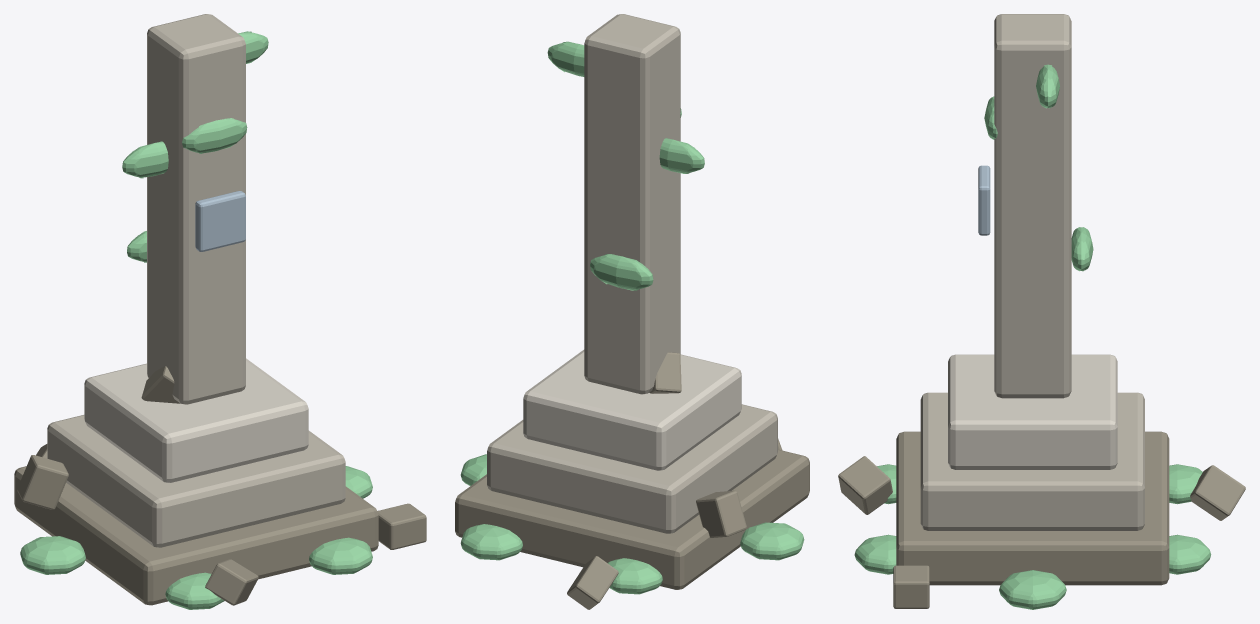
Rendered from chartmaker_stone.glb.
3 views of the same model, side by side, from view 1: azimuth 30°, elevation 25°; view 2: azimuth 150°, elevation 25°; view 3: azimuth 270°, elevation 25° (orthographic). The views are drawn at different scales.
Visible parts, largest first — view 1: Stone, Plinth2, Plinth3, Plinth1, Rune, Tuft3, Rock4, Rock0, Tuft5, Rock1, Moss3, Tuft4 (+4 smaller); view 2: Stone, Plinth2, Plinth1, Plinth3, Tuft3, Rock4, Tuft1, Moss2, Rock2, Tuft2, Moss0, Moss1 (+2 smaller); view 3: Stone, Plinth1, Plinth2, Plinth3, Tuft0, Rock1, Rock2, Rock0, Tuft1, Tuft5, Tuft2, Rune (+2 smaller).
Part boxes in pixels (left/top/right/bottom): Stone: left=147, top=14, right=245, bottom=404; Plinth2: left=47, top=415, right=345, bottom=547; Plinth3: left=84, top=358, right=308, bottom=482; Plinth1: left=14, top=466, right=378, bottom=605; Rune: left=195, top=191, right=245, bottom=251; Tuft3: left=20, top=536, right=85, bottom=574; Rock4: left=17, top=455, right=68, bottom=509; Rock0: left=377, top=503, right=426, bottom=549; Tuft5: left=309, top=537, right=372, bottom=574; Rock1: left=205, top=559, right=258, bottom=605; Moss3: left=182, top=118, right=247, bottom=153; Tuft4: left=165, top=572, right=224, bottom=609; Stone: left=584, top=14, right=680, bottom=394; Plinth2: left=487, top=404, right=777, bottom=533; Plinth1: left=455, top=449, right=809, bottom=589; Plinth3: left=523, top=349, right=741, bottom=470; Tuft3: left=740, top=522, right=804, bottom=560; Rock4: left=696, top=490, right=746, bottom=538; Tuft1: left=460, top=524, right=522, bottom=560; Moss2: left=590, top=254, right=653, bottom=290; Rock2: left=567, top=556, right=618, bottom=609; Tuft2: left=607, top=558, right=662, bottom=594; Moss0: left=659, top=138, right=704, bottom=173; Moss1: left=547, top=41, right=584, bottom=76; Stone: left=994, top=14, right=1071, bottom=398; Plinth1: left=896, top=431, right=1169, bottom=585; Plinth2: left=920, top=392, right=1144, bottom=530; Plinth3: left=948, top=354, right=1117, bottom=469; Tuft0: left=999, top=570, right=1066, bottom=609; Rock1: left=838, top=456, right=892, bottom=514; Rock2: left=1190, top=465, right=1245, bottom=520; Rock0: left=893, top=565, right=929, bottom=608; Tuft1: left=1169, top=534, right=1211, bottom=574; Tuft5: left=854, top=534, right=896, bottom=574; Tuft2: left=1169, top=464, right=1202, bottom=504; Rune: left=978, top=165, right=990, bottom=235.
Bounding box in the file's own units: 1.32 × 1.88 × 1.34.
